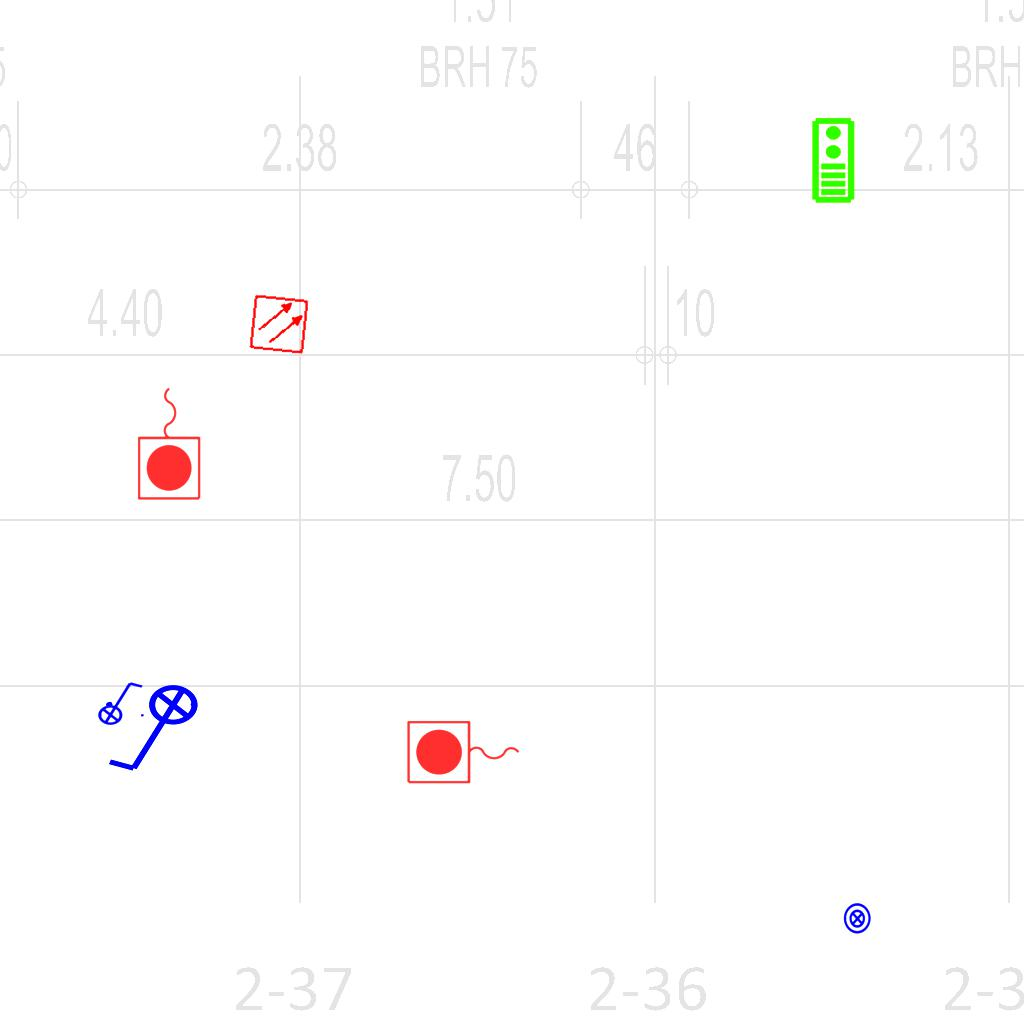Ausschalter_beleuchtet: (100, 683, 212, 779), (91, 678, 147, 726)
Gegensprechanlage_mit_Video: (809, 116, 856, 204)
RMO_Rauchmelder_optischer: (248, 293, 310, 355)
Taster_beleuchtet: (841, 902, 874, 935)
Zugtaster: (403, 717, 525, 789), (134, 382, 206, 504)
